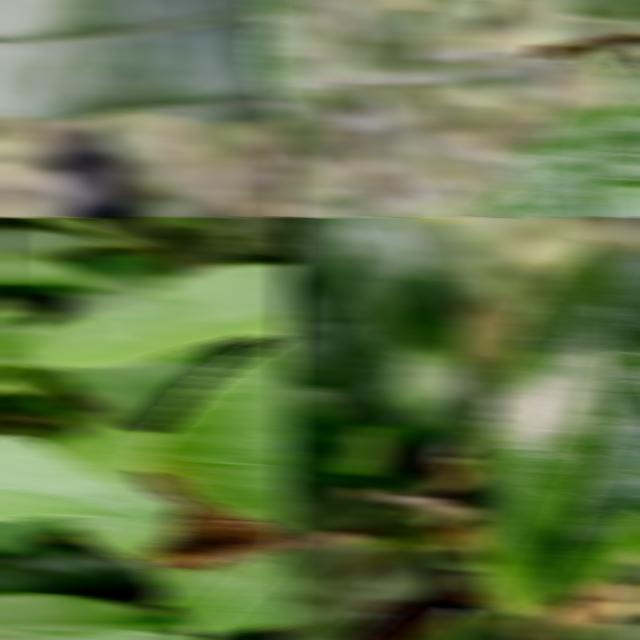Leaf: (470, 242, 640, 617), (281, 217, 467, 490), (134, 329, 295, 640), (0, 0, 269, 119), (8, 263, 295, 367), (47, 428, 187, 567), (489, 99, 640, 217), (0, 434, 178, 524), (50, 347, 218, 427), (65, 274, 159, 314), (0, 629, 192, 640)
